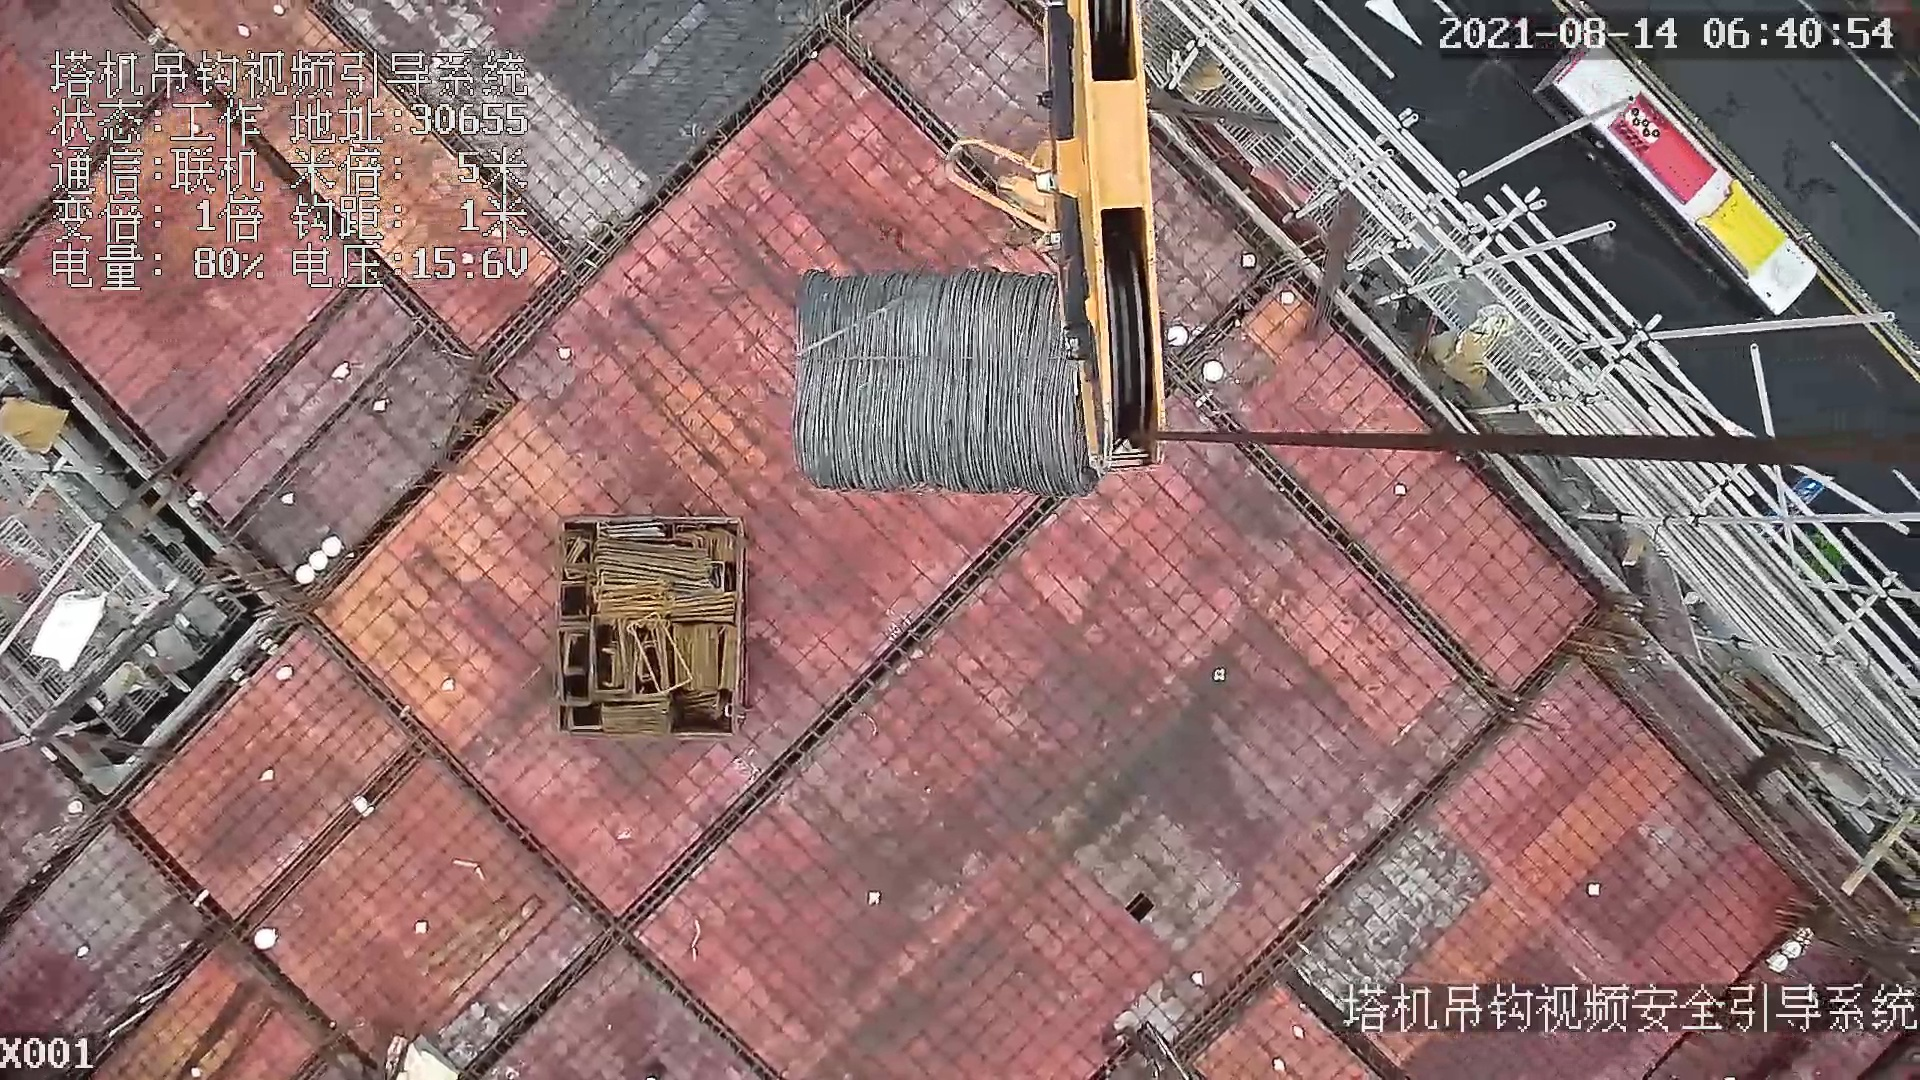hook: (944, 1, 1174, 477)
